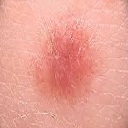Melanoma: (33, 28, 93, 96)
